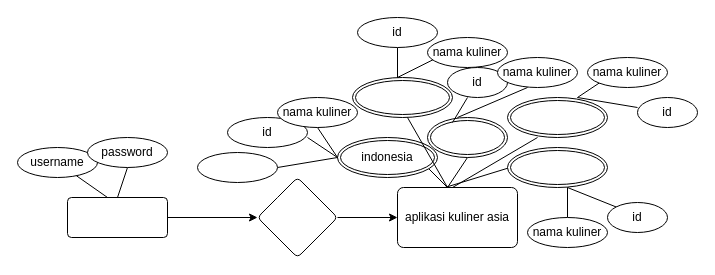
Some shapes in this 715 by 275 pixel diagram are drawn without their labels. The shapes that lost their labels are listed below. From the top down, each one's centre as x and y in pixels, then its label:
(402,97): thailand
(557,117): china
(467,137): jepang
(237,167): asal daerah
(557,167): korea
(117,217): user
(297,217): mendaftar
